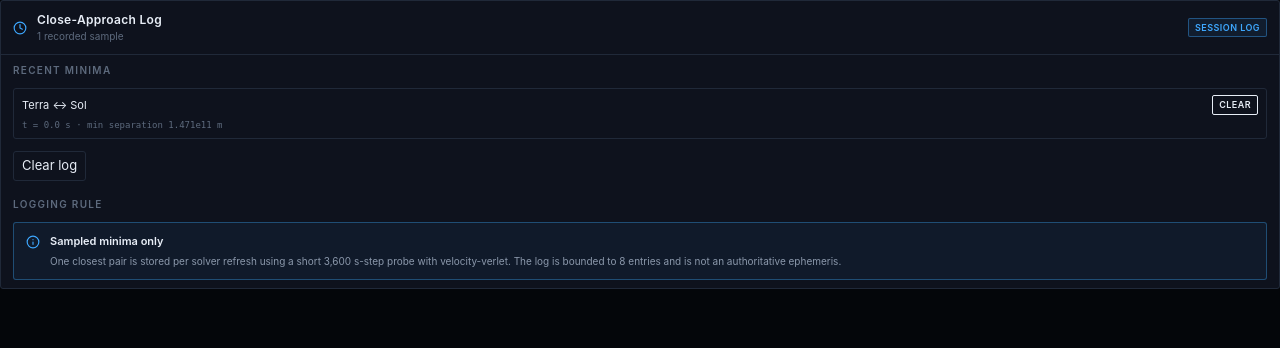
Test: extra simulator panels › CloseApproachLogPanel records a sampled minimum and can clear it
The image size is (1280, 348).
Expected: the text "Close-Approach Log" is shown, [37,12,162,27]
Expected: the text "1 recorded sample" is shown, [37,30,124,42]
Click the button "Clear log" at (50, 166), box [13,151,86,180]
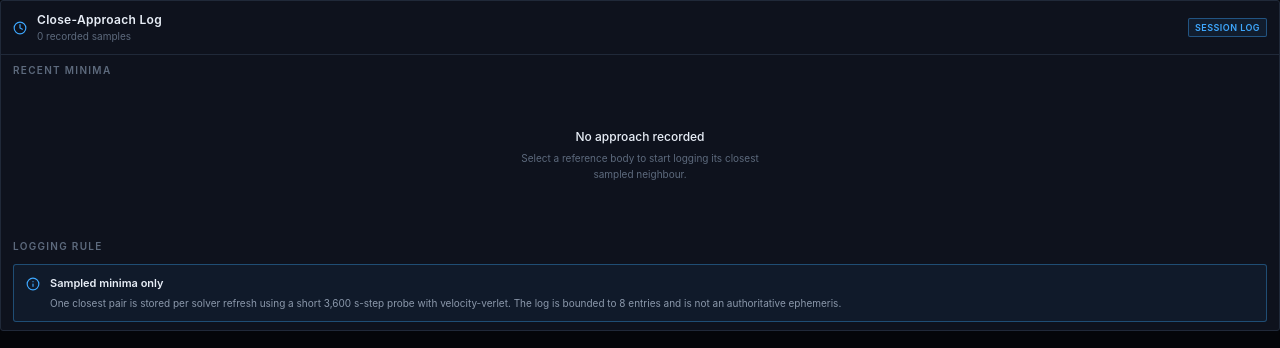
Result: the text "No approach recorded" is shown at [576,128,704,146]
